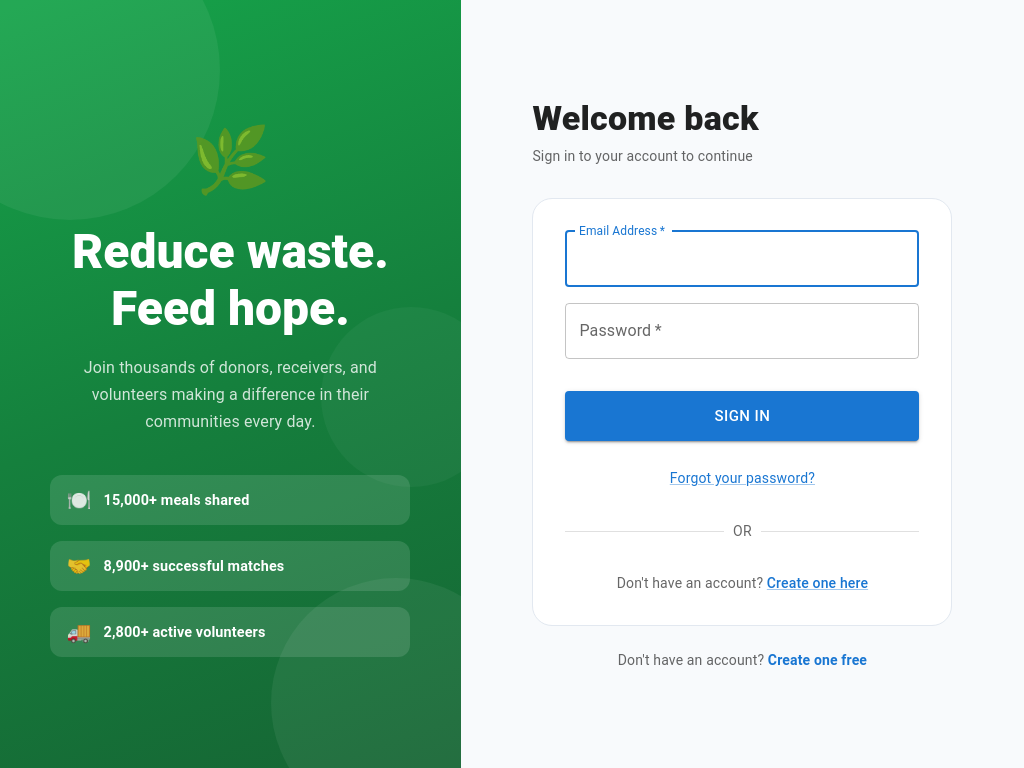
Test case: Authentication Flow Integration Tests › Login Flow › should reject login for rejected users
// Fill login form
In the field labelled "Email Address *": (742, 259) [565,231,919,287], type "rejected@example.com"
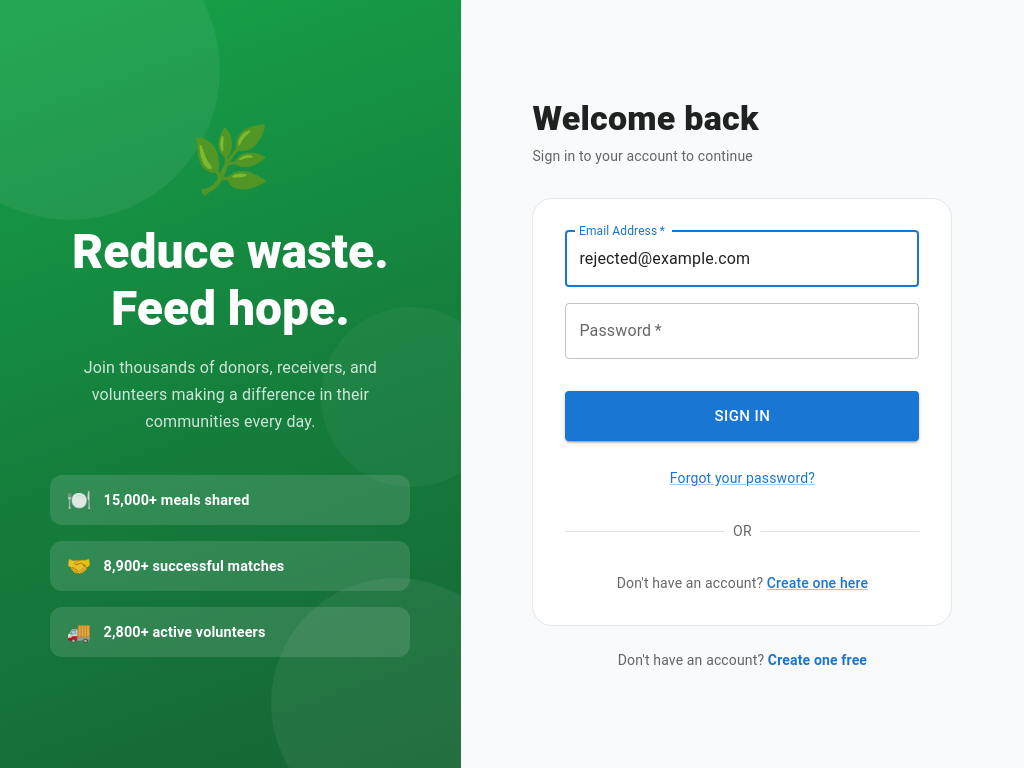
In the password field labelled "Password *": (742, 331) [565,303,919,359], type "SecurePass123!"
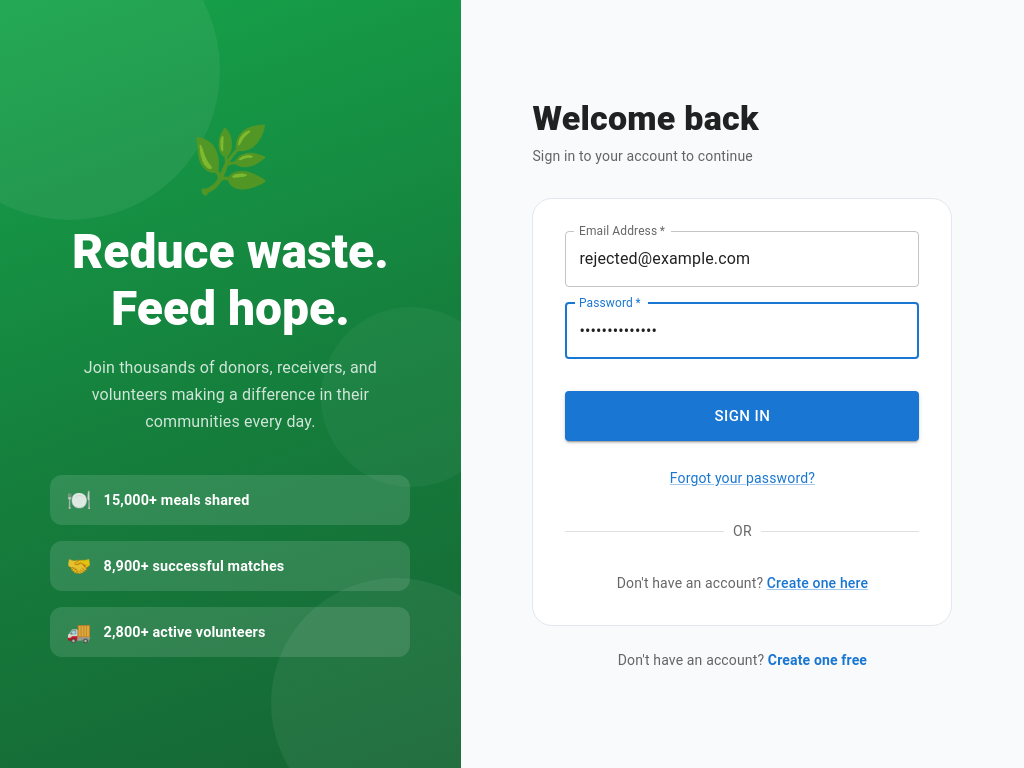
// Submit login
Click the button "Sign In": click(742, 416) [565,391,919,441]
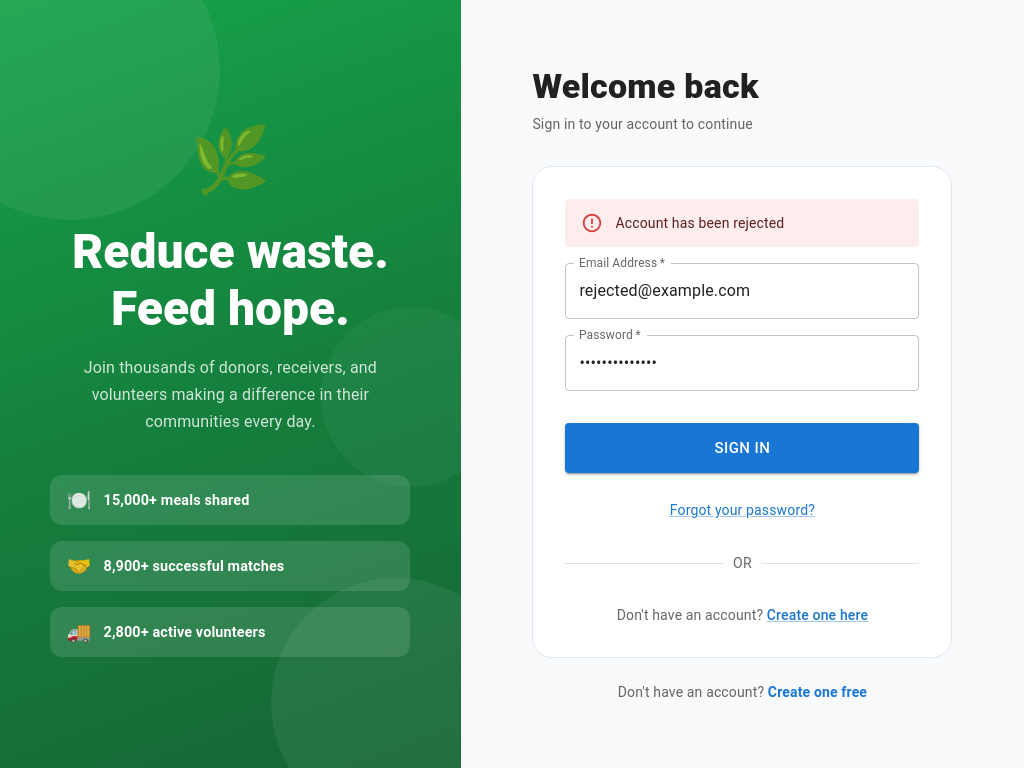
Now the text "Account has been rejected" is shown, box [615,215,784,231]
